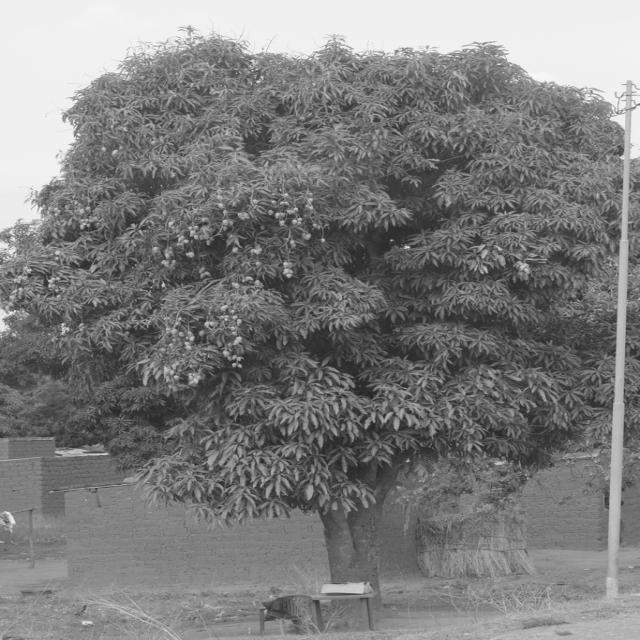Mango-Tree: (16, 28, 640, 595)
